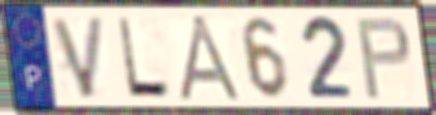2: (298, 12, 359, 104)
6: (239, 13, 292, 102)
A: (174, 13, 247, 103)
L: (114, 15, 174, 100)
P: (353, 15, 414, 102)
V: (47, 13, 108, 101)
